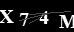4: (39, 10, 49, 25)
7: (18, 12, 29, 27)
M: (57, 14, 74, 28)
X: (1, 9, 13, 24)
